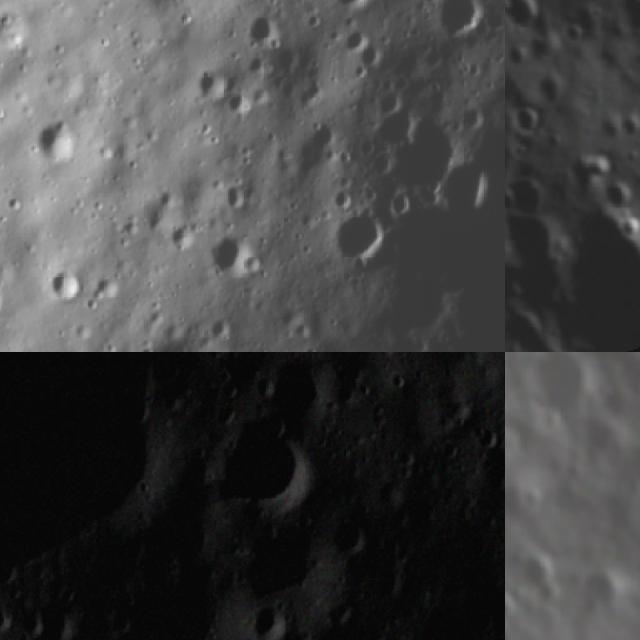crater: (202, 417, 310, 508), (229, 523, 323, 599), (385, 111, 465, 198), (251, 352, 331, 425), (523, 352, 597, 417), (416, 591, 500, 640), (92, 527, 150, 590), (440, 150, 493, 217), (332, 212, 390, 268), (574, 406, 630, 462), (576, 560, 630, 610), (32, 114, 83, 164), (431, 0, 491, 41), (210, 229, 256, 280), (45, 258, 87, 308), (512, 551, 564, 591), (41, 589, 81, 640), (138, 327, 218, 352), (146, 352, 190, 394), (243, 604, 294, 640), (509, 100, 551, 143), (191, 62, 230, 105), (329, 511, 368, 552), (598, 176, 639, 214), (305, 112, 342, 154), (244, 9, 284, 46), (505, 0, 548, 33), (203, 307, 236, 348), (534, 70, 570, 107), (558, 14, 594, 51), (338, 24, 374, 60), (505, 36, 539, 73), (90, 267, 128, 300), (358, 35, 390, 71), (370, 85, 404, 118), (453, 100, 488, 132), (223, 87, 260, 116), (467, 420, 504, 448), (615, 103, 640, 143), (613, 208, 640, 245), (0, 592, 21, 635), (225, 180, 247, 212), (505, 585, 521, 624), (393, 189, 411, 215)
